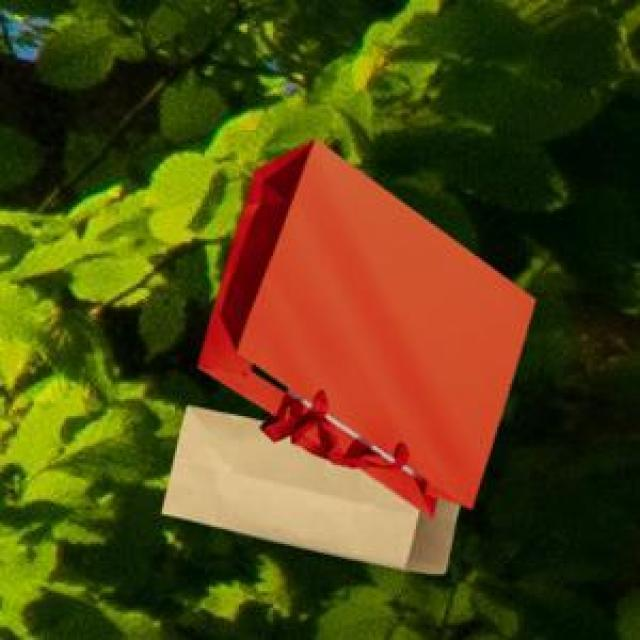paper: (194, 137, 531, 514), (158, 401, 454, 570)
